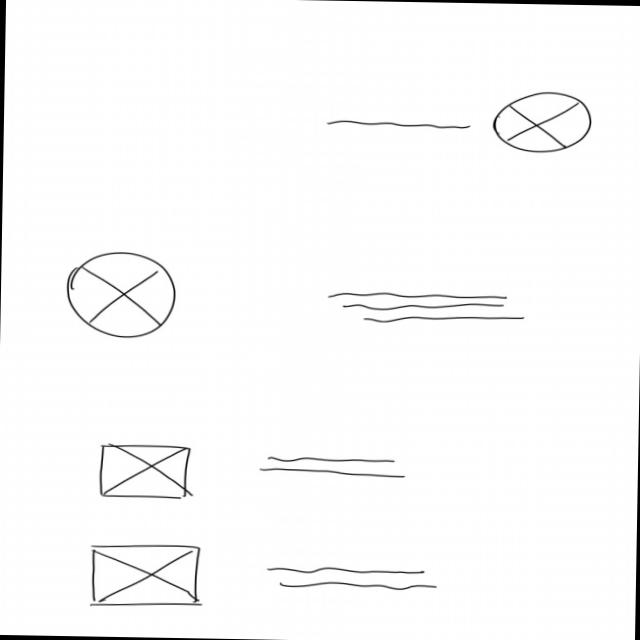image: (64, 249, 178, 340), (88, 542, 203, 609), (490, 89, 592, 154), (98, 442, 196, 499)
text: (324, 118, 472, 132)
textbox: (324, 289, 526, 327), (266, 564, 440, 592), (257, 452, 408, 478)
